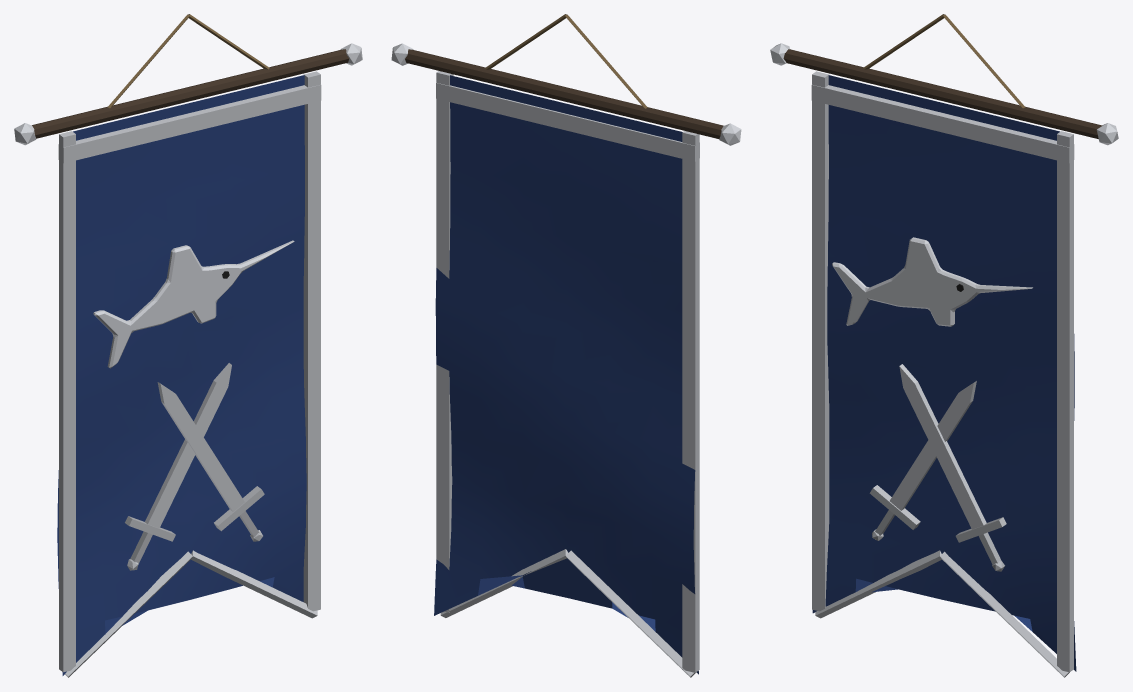
The model's file is guild_banner_swordfin.glb.
3 renders of one model, left to right at view 1: azimuth 30°, elevation 25°; view 2: azimuth 150°, elevation 25°; view 3: azimuth 330°, elevation 25°, orthographic.
Parts seen in each view (by area): view 1: guild_banner_swordfin; view 2: guild_banner_swordfin; view 3: guild_banner_swordfin.
Boxes of the visible parts, x1,y1,x2,y2 form: guild_banner_swordfin: (14, 14, 362, 677); guild_banner_swordfin: (391, 14, 741, 677); guild_banner_swordfin: (770, 14, 1118, 677).
Size of the model in its own units: 1.61 by 2.81 by 0.1325.
